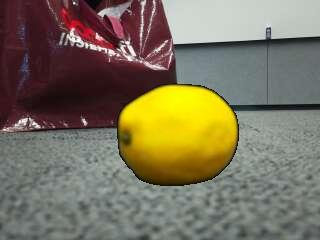lemon: (118, 84, 238, 185)
